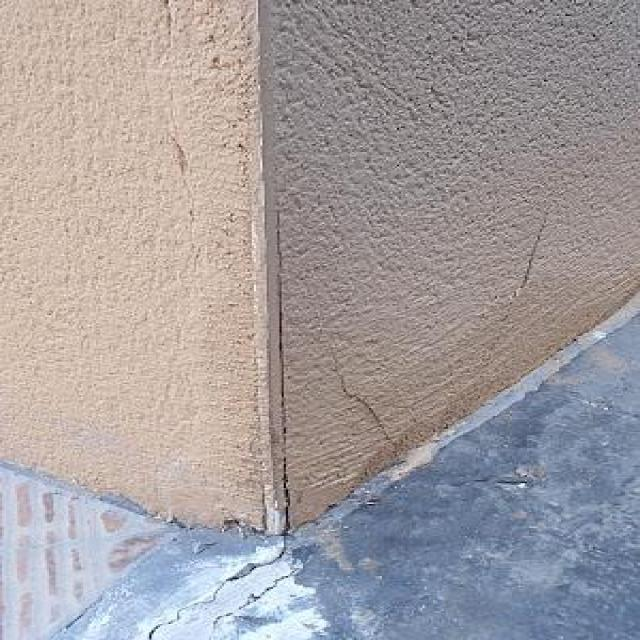crack: (144, 535, 290, 638), (274, 209, 295, 533), (332, 359, 398, 444), (513, 215, 554, 300)
